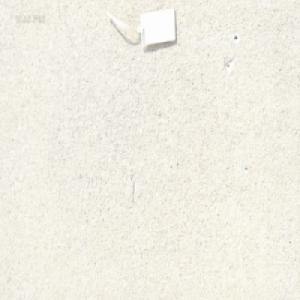LuggageTag: (103, 7, 177, 54)
